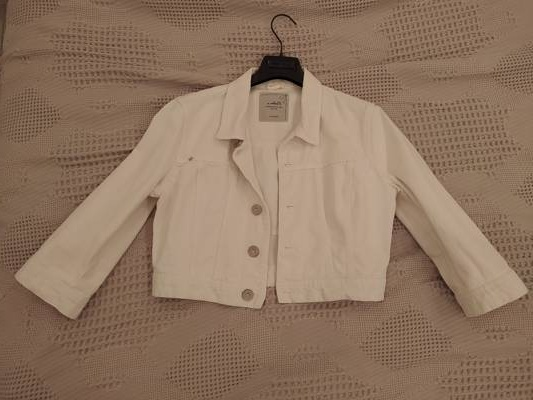Blazer: (21, 60, 515, 353)
